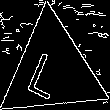L_NE: (29, 40, 75, 99)
